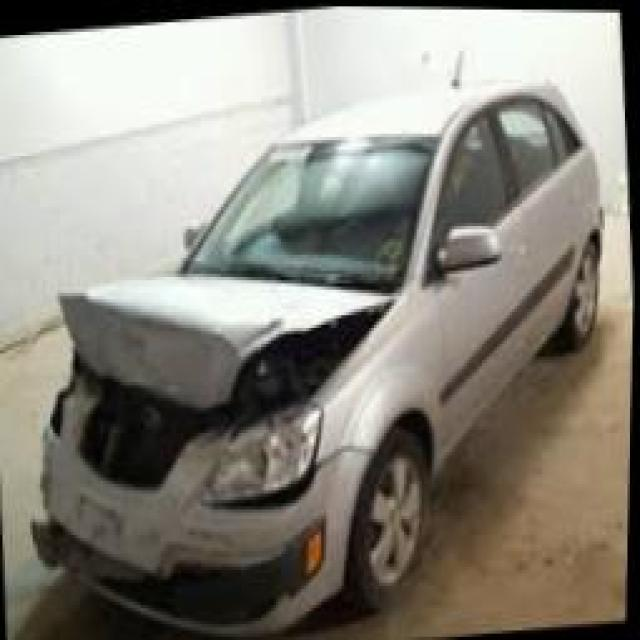Bonnet: (49, 258, 390, 498)
Bumper: (15, 480, 347, 626)
Light: (183, 410, 320, 512)
